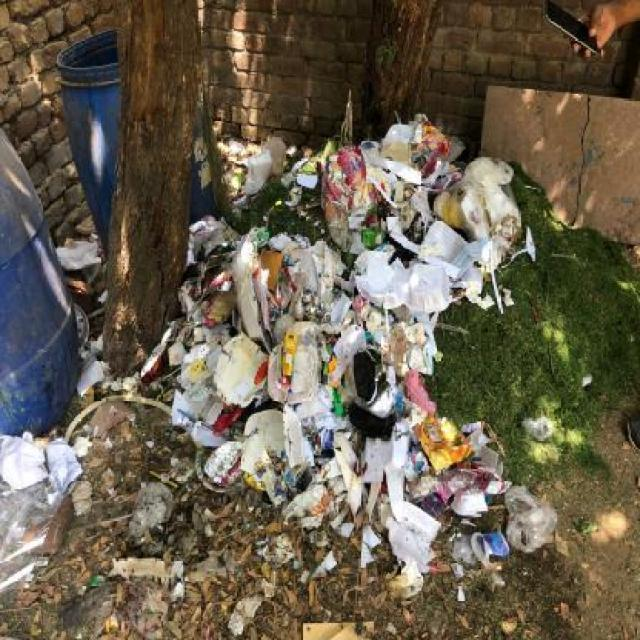garbage: (223, 129, 560, 550), (0, 432, 84, 594), (173, 205, 219, 497), (48, 237, 116, 304)
